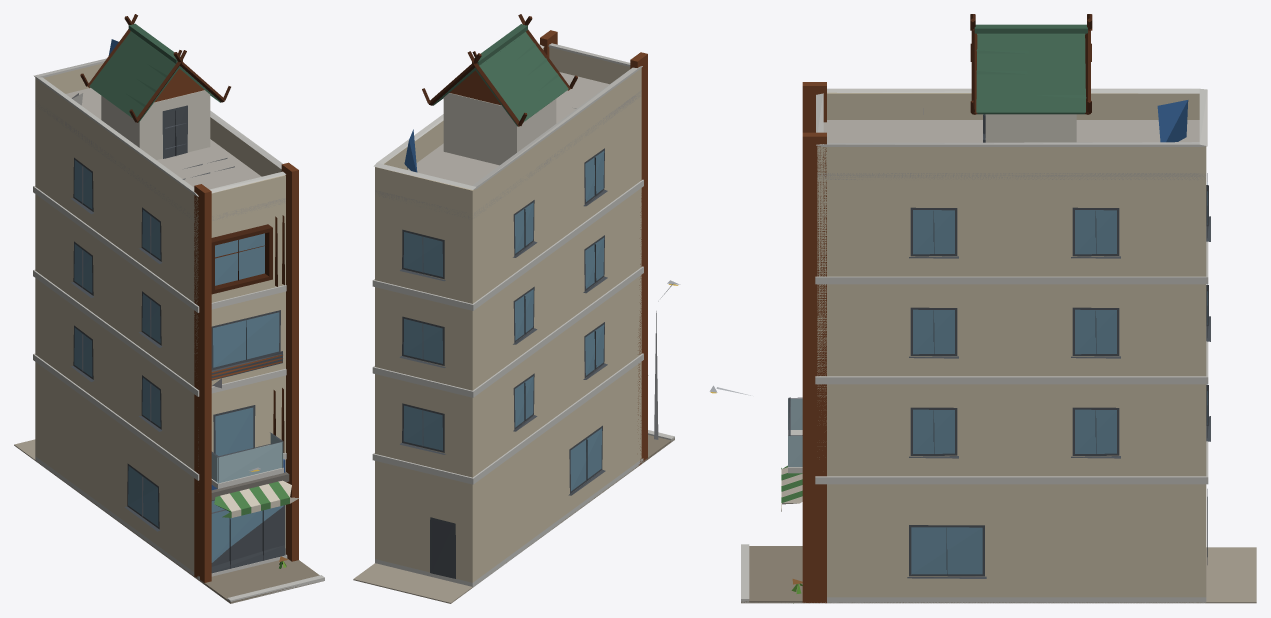
The model's file is bay2_one.glb.
The picture shows the model from 3 angles, left to right: view 1: azimuth 30°, elevation 25°; view 2: azimuth 150°, elevation 25°; view 3: azimuth 270°, elevation 25°; orthographic projection. The views are drawn at different scales.
Parts seen in each view (by area): view 1: body; view 2: body; view 3: body.
Part boxes in pixels (x1,y1,x2,y2): body: (14, 14, 324, 603); body: (353, 14, 680, 603); body: (709, 14, 1256, 603).
Bounding box in the file's own units: 4.71 × 19.33 × 16.88.
